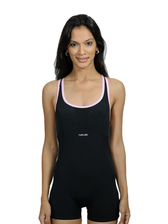clothoes: (43, 73, 123, 224)
